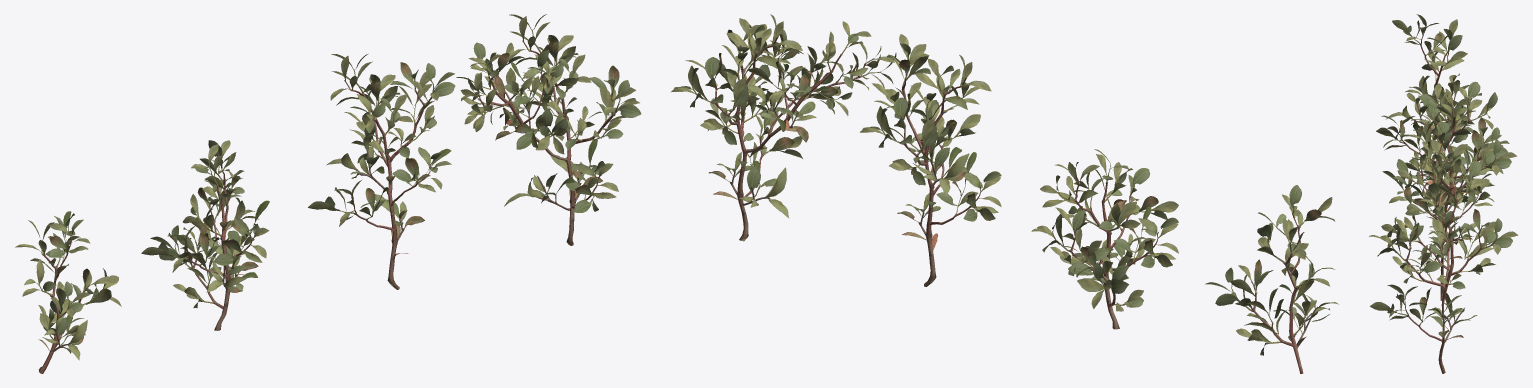
Rendered from shrub_04.glb.
3 views of the same model, side by side, from view 1: azimuth 30°, elevation 25°; view 2: azimuth 150°, elevation 25°; view 3: azimuth 270°, elevation 25° (orthographic). The views are drawn at different scales.
Parts seen in each view (by area): view 1: shrub_04; view 2: shrub_04; view 3: shrub_04.
Boxes of the visible parts, x1,y1,x2,y2 form: shrub_04: [15, 14, 641, 373]; shrub_04: [671, 14, 1338, 373]; shrub_04: [1369, 14, 1518, 373].
Size of the model in its own units: 0.5837 by 0.2192 by 0.1461.
1 material, 1 textured.
